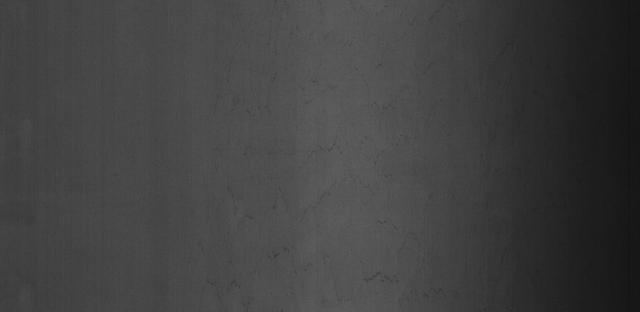silk_spot: (271, 64, 374, 241)
